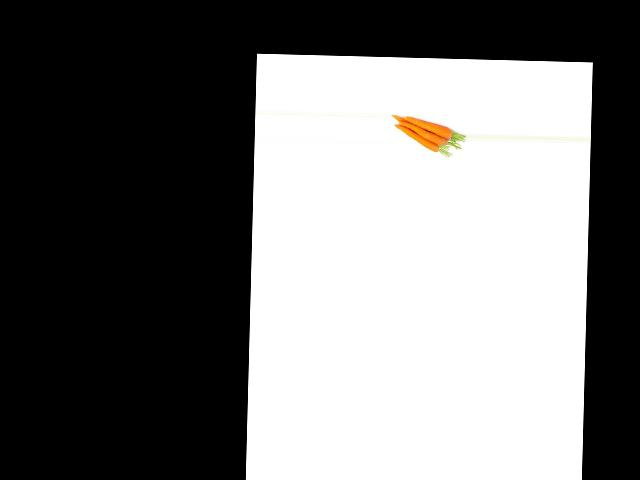carrot: (403, 114, 457, 138)
